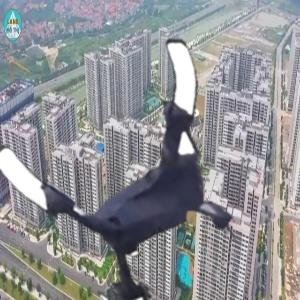drone: (22, 48, 268, 294)
